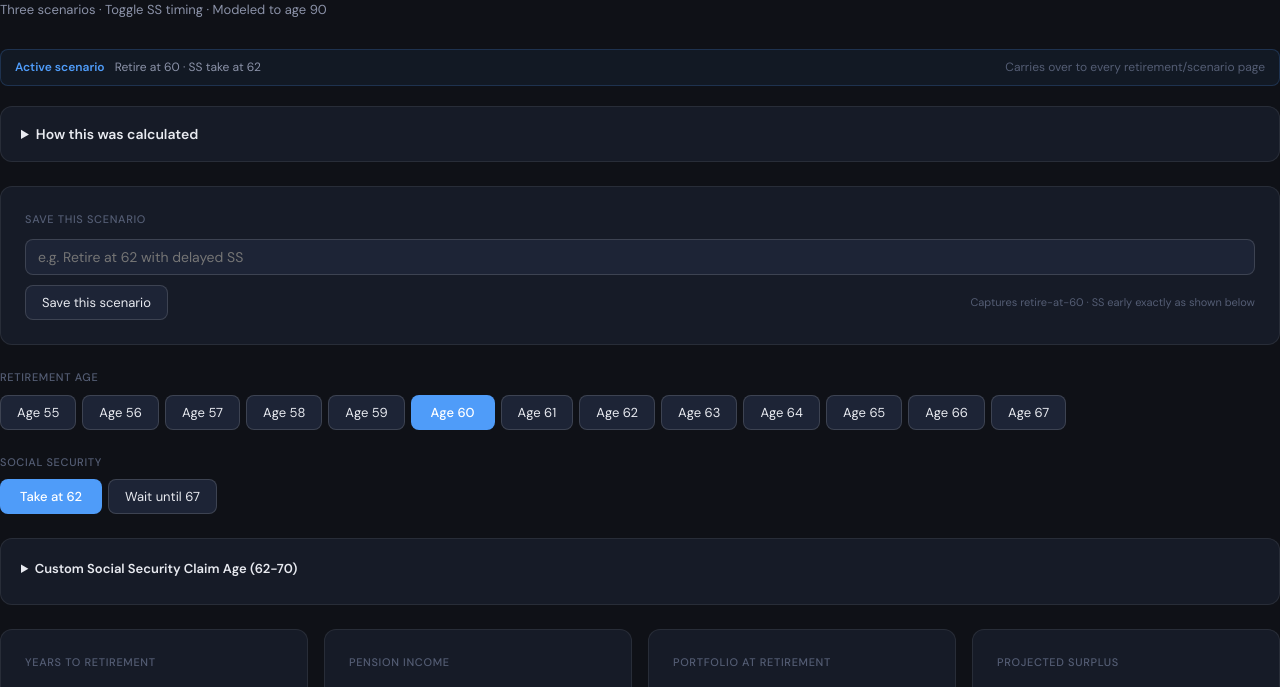
it: Retirement Projection — How this was calculated (Milestone 2) › renders the explainer panel and expands to show the scenario's own dollar basis and flows
The image size is (1280, 687).
Step 1. Click the heading "How this was calculated" → click(117, 134), box left=36, top=125, right=198, bottom=143
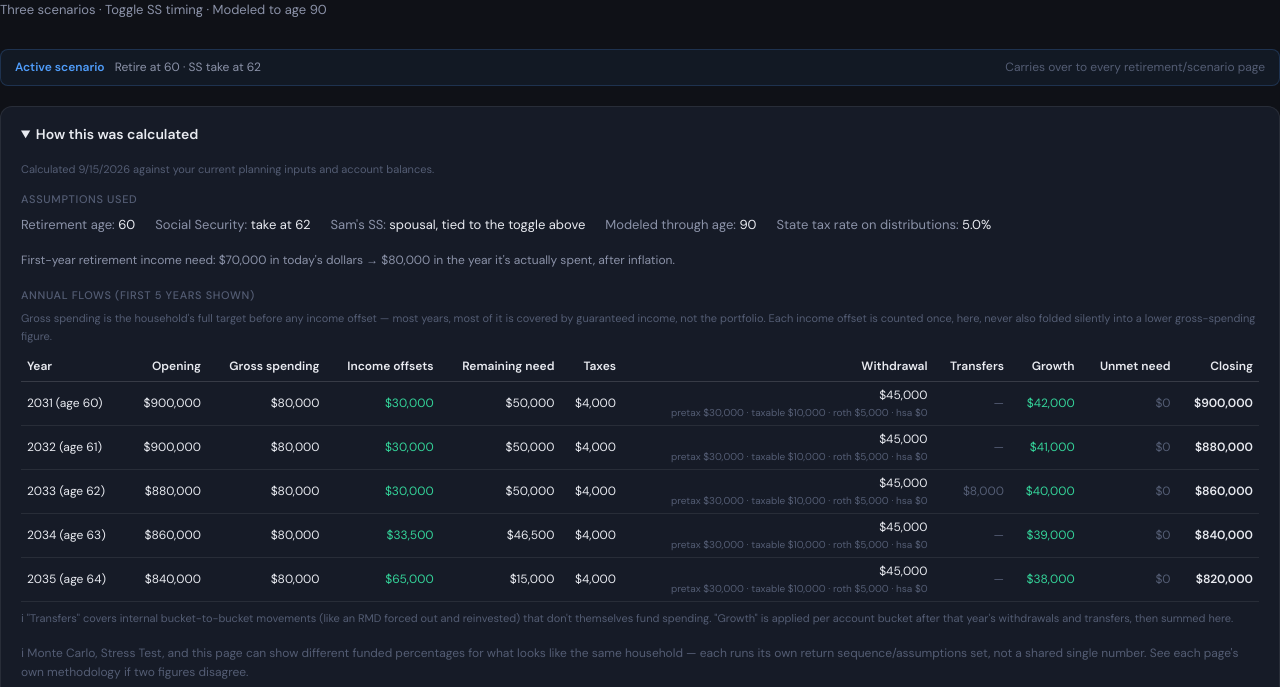
Result: the text "Retirement age: 60" is shown at left=21, top=215, right=135, bottom=235
Result: the text "$70,000" is shown at left=219, top=252, right=266, bottom=268
Result: the text "$80,000" is shown at left=381, top=252, right=430, bottom=268
